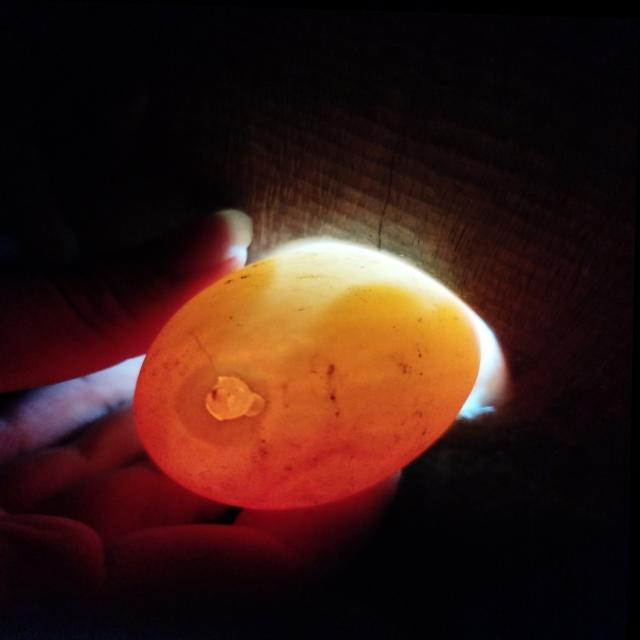Rachadura: (208, 374, 266, 419)
